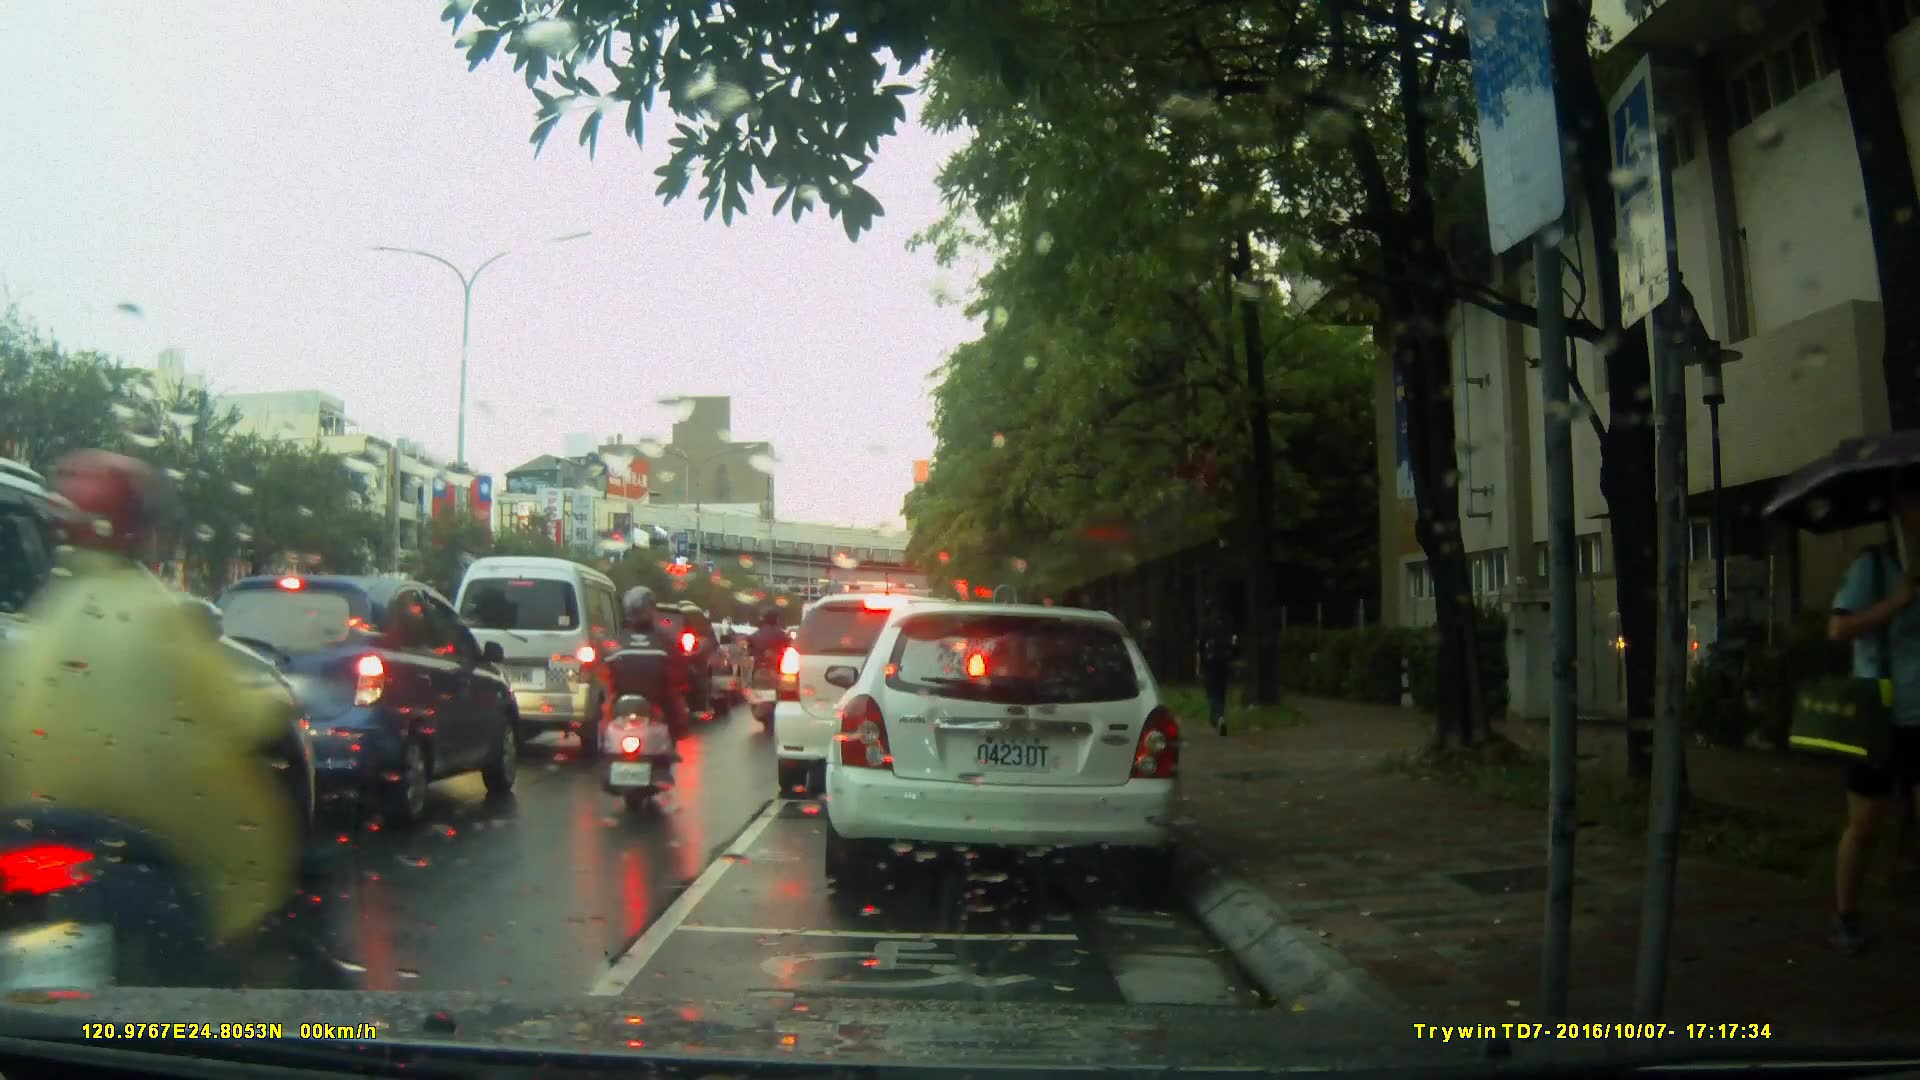pedestrian: (1822, 461, 1920, 958), (1182, 589, 1254, 743)
rider: (12, 427, 282, 1079), (594, 577, 690, 817), (749, 609, 797, 726)
vehicle: (1, 451, 322, 989), (815, 593, 1204, 909), (166, 573, 533, 835), (770, 590, 994, 802), (443, 553, 644, 763), (584, 602, 735, 724)
